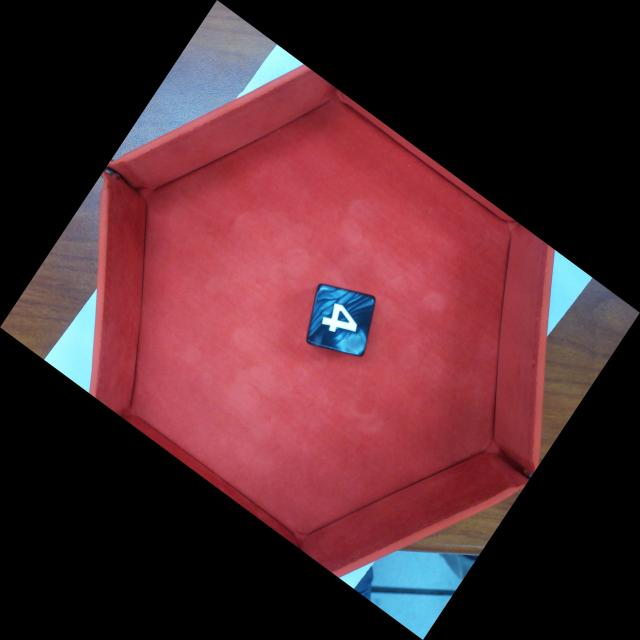dice: (306, 284, 377, 358)
